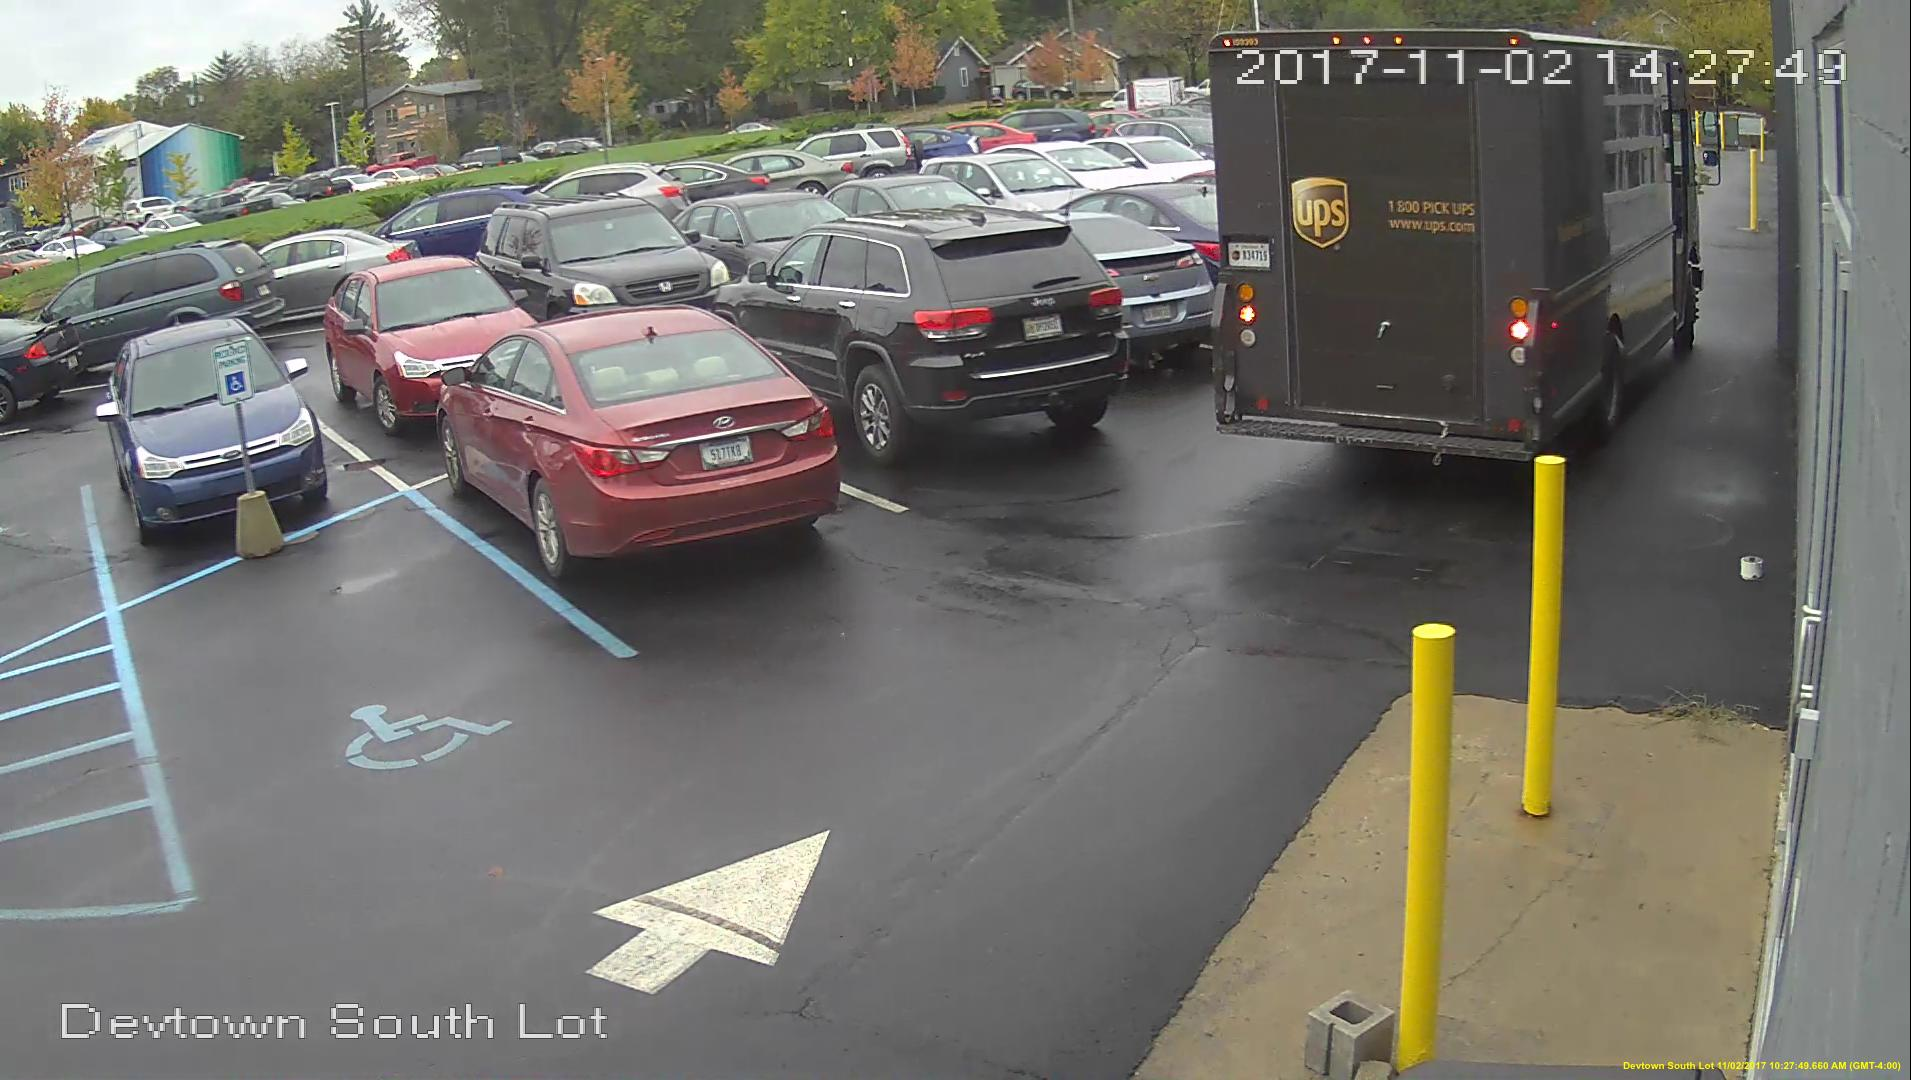ups_truck: (1202, 31, 1693, 472)
